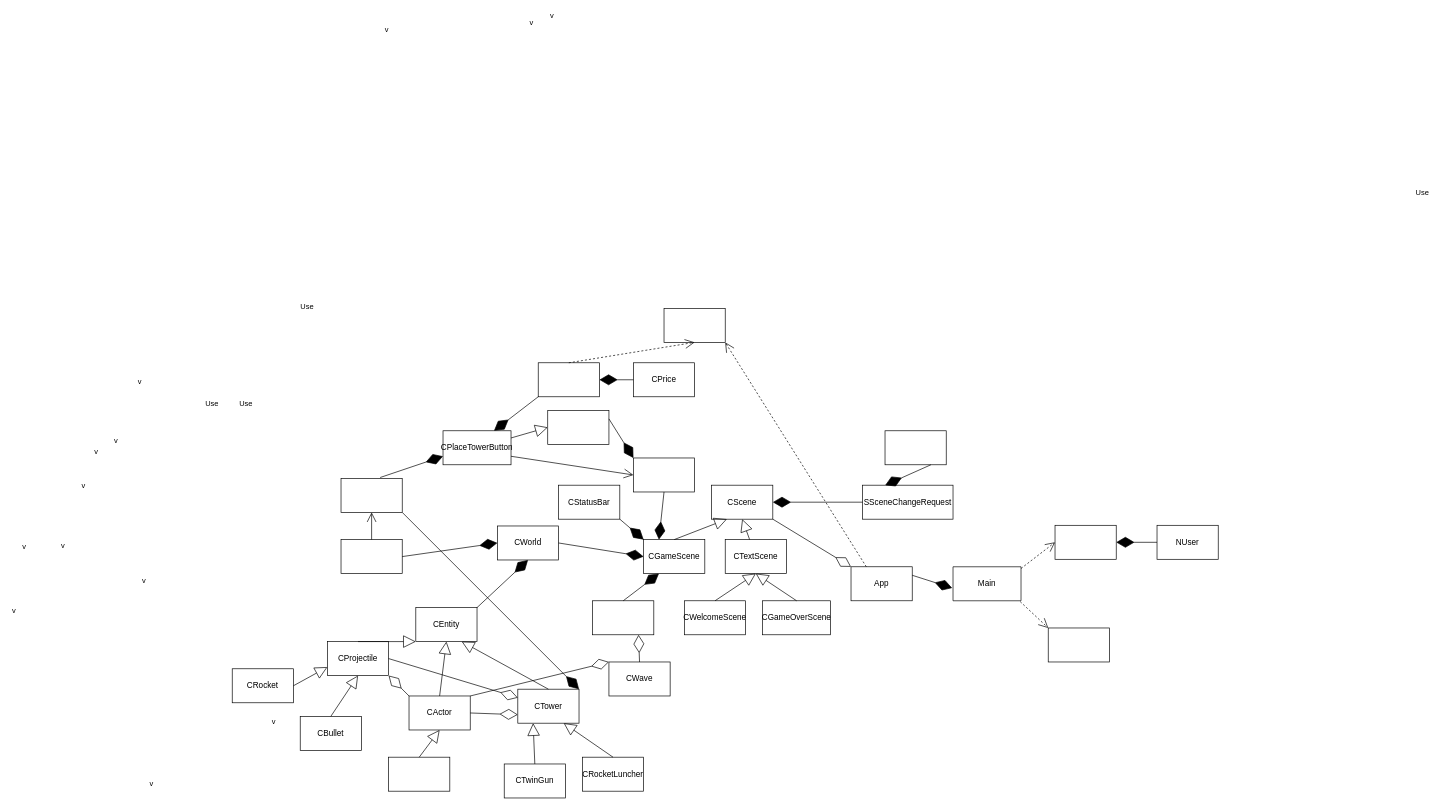
Some shapes in this 1440 by 811 pixel diagram are drawn without their labels. Each missing label, with the centre of its shape:
CButton: the point at 578,427
CContextMenu: the point at 664,474
CDirector: the point at 623,617
CGrid: the point at 371,556
Client: the point at 1078,644
CSoldier: the point at 419,773
CTowerPreview: the point at 568,379
EcSceneType: the point at 915,447
NServer: the point at 1085,542
SAssets: the point at 694,325
SSector: the point at 371,495
